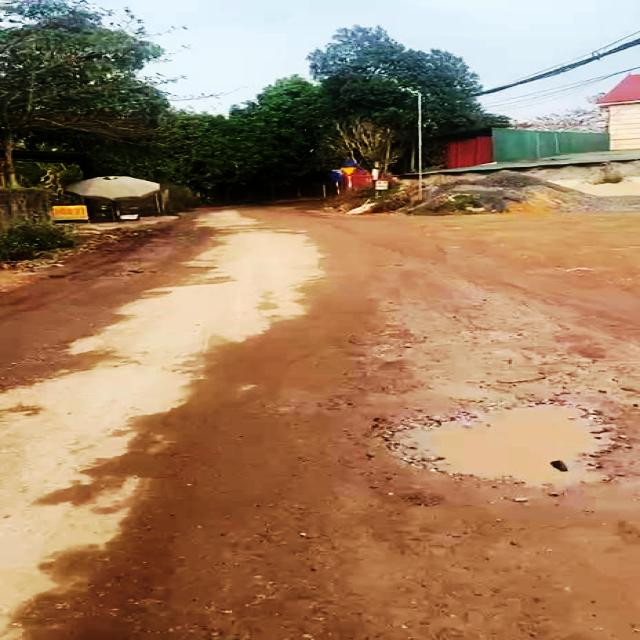pothole: (385, 396, 630, 496)
